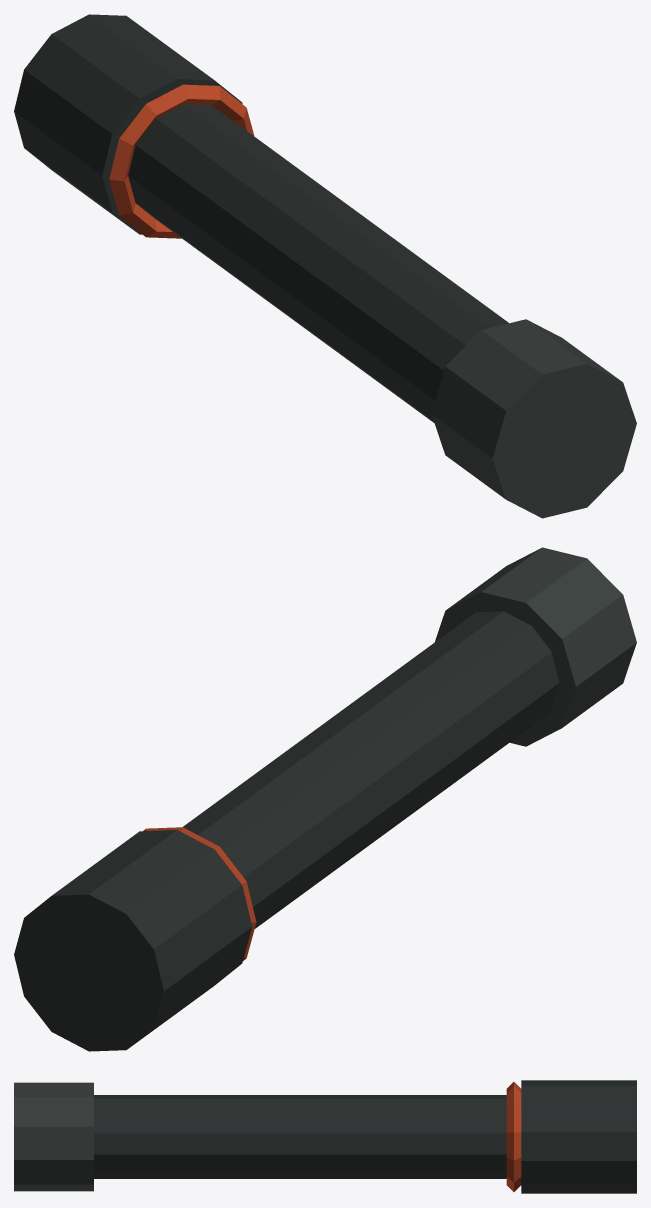
File: Bastion_Turret_WeaponPitch.obj
3 renders of one model, top to bottom at view 1: azimuth 30°, elevation 25°; view 2: azimuth 150°, elevation 25°; view 3: azimuth 270°, elevation 25°, orthographic. The views are drawn at different scales.
Visible parts, largest first — view 1: Bastion_Turret_WeaponPitch; view 2: Bastion_Turret_WeaponPitch; view 3: Bastion_Turret_WeaponPitch.
Boxes of the visible parts, x1,y1,x2,y2 form: Bastion_Turret_WeaponPitch: (14, 14, 636, 518); Bastion_Turret_WeaponPitch: (14, 547, 636, 1051); Bastion_Turret_WeaponPitch: (14, 1080, 636, 1193).
Size of the model in its own units: 0.54 by 0.54 by 2.97.
1 material, 1 textured.
